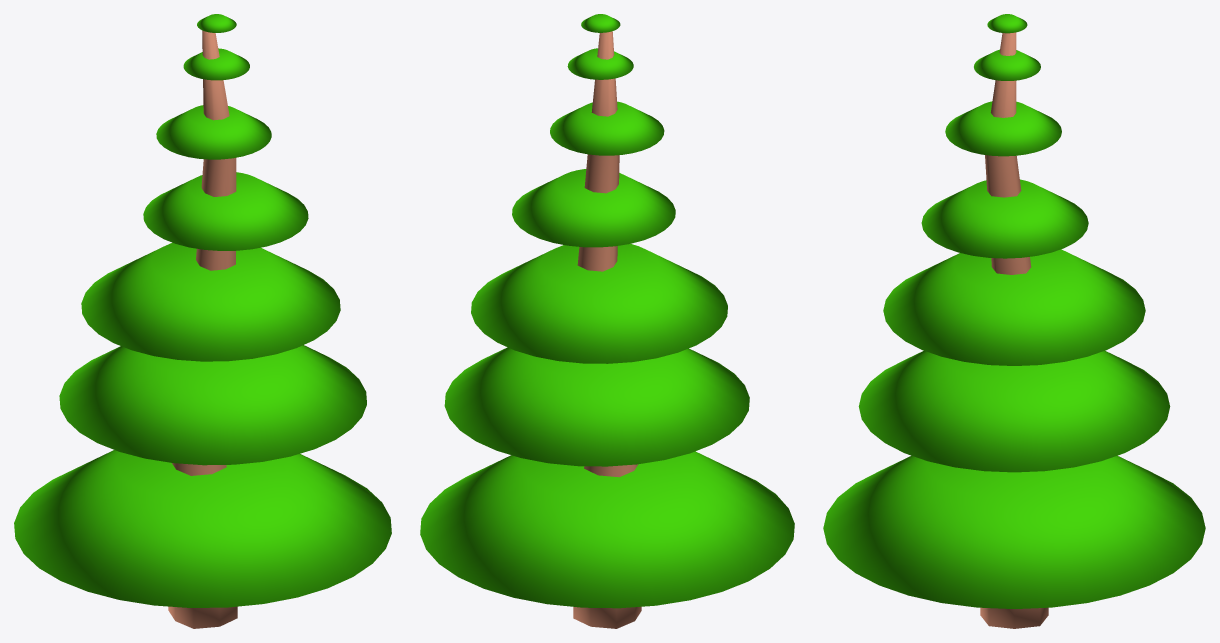
The model's file is Baum2.fbx.
3 renders of one model, left to right at view 1: azimuth 30°, elevation 25°; view 2: azimuth 150°, elevation 25°; view 3: azimuth 270°, elevation 25°, orthographic.
Parts seen in each view (by area): view 1: Cube; view 2: Cube; view 3: Cube.
Part boxes in pixels (<box>): Cube: <box>14,14,391,628</box>; Cube: <box>420,14,794,628</box>; Cube: <box>823,14,1205,628</box>.
Size of the model in its own units: 1494 by 2598 by 1494.
